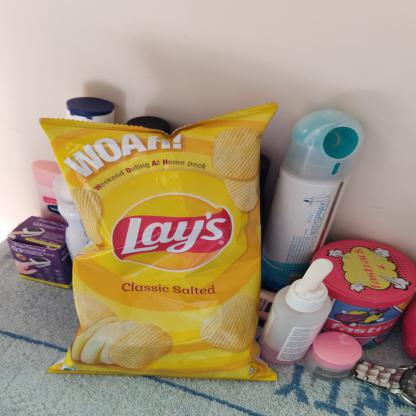classicsalted: (38, 101, 281, 383)
